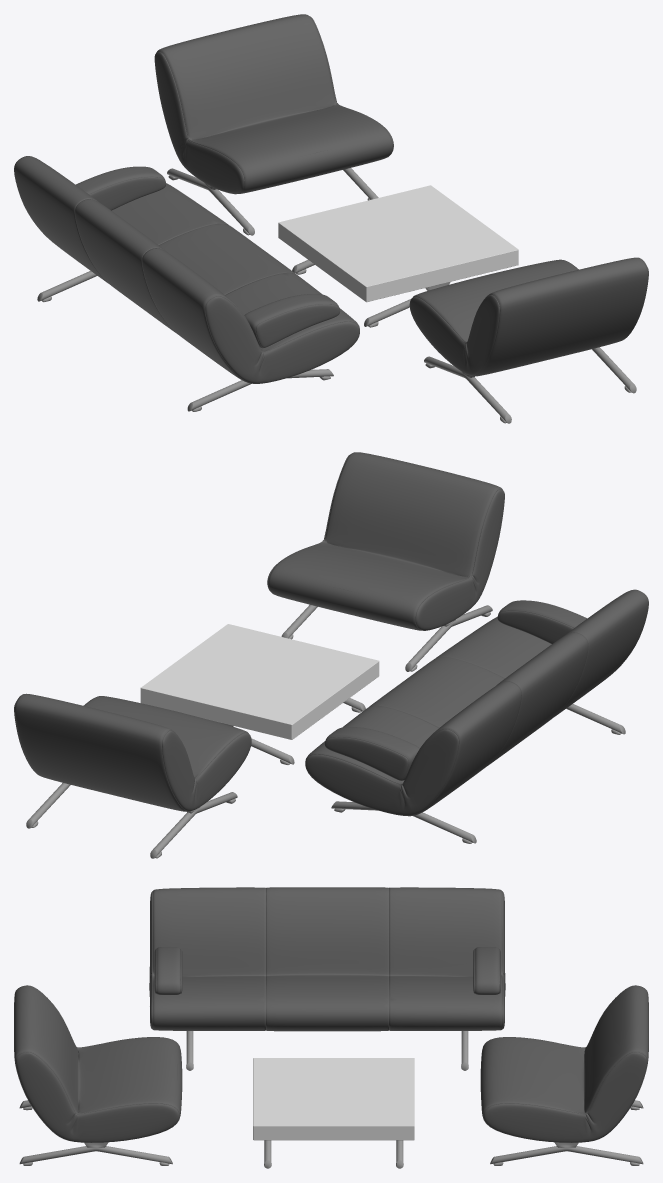
The model's file is chair.fbx.
3 views of the same model, one above another, from view 1: azimuth 30°, elevation 25°; view 2: azimuth 150°, elevation 25°; view 3: azimuth 270°, elevation 25° (orthographic). The views are drawn at different scales.
Visible parts, largest first — view 1: chair; view 2: chair; view 3: chair.
Part boxes in pixels (bbox=[...]): chair: bbox=[14, 14, 648, 423]; chair: bbox=[14, 452, 648, 858]; chair: bbox=[14, 887, 648, 1168].
Size of the model in its own units: 203 by 68.79 by 326.
Materials: 5 (3 with a texture image).
